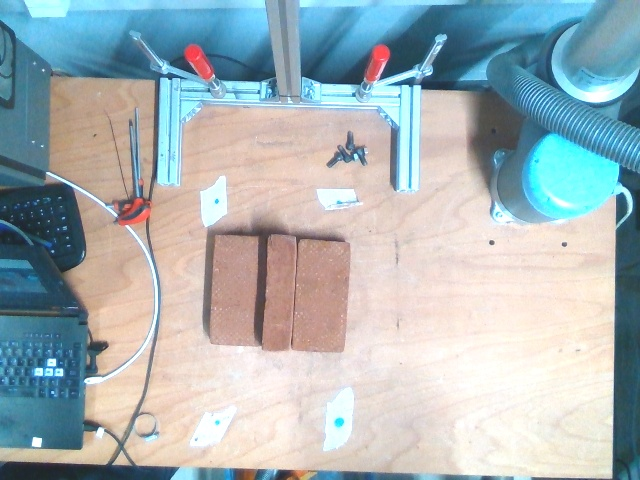brick: (209, 234, 264, 345), (293, 242, 350, 349)
brick-side: (260, 234, 295, 349)
